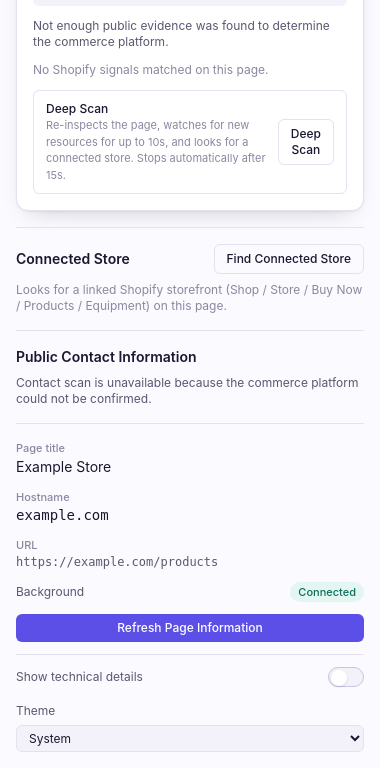
App › toggles technical details panel when switch is clicked
(page scrolled)
Click the switch.
click(346, 677)  # box top-left (328, 667), bottom-right (364, 687)
(page scrolled)
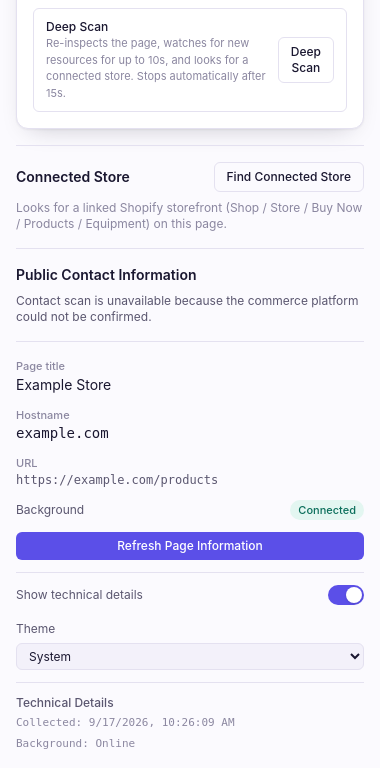
Check: the text "Technical Details" is shown, box top-left (16, 695), bottom-right (114, 710)
